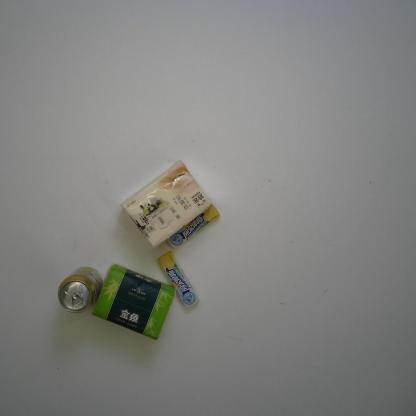Alcohol: (57, 266, 103, 314)
Candy: (165, 203, 221, 250), (157, 250, 200, 309)
Tissue: (119, 159, 214, 251), (89, 263, 177, 341)
